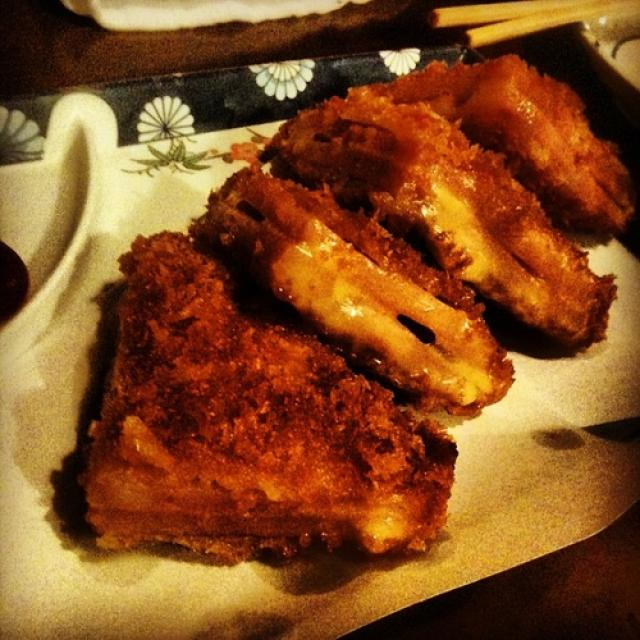炸货点心: (5, 21, 638, 634)
